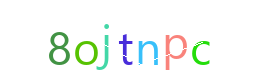8: (22, 0, 102, 80)
C: (134, 0, 214, 80)
J: (85, 0, 165, 80)
N: (90, 0, 170, 80)
O: (71, 0, 151, 80)
P: (90, 0, 170, 80)
T: (87, 0, 167, 80)
